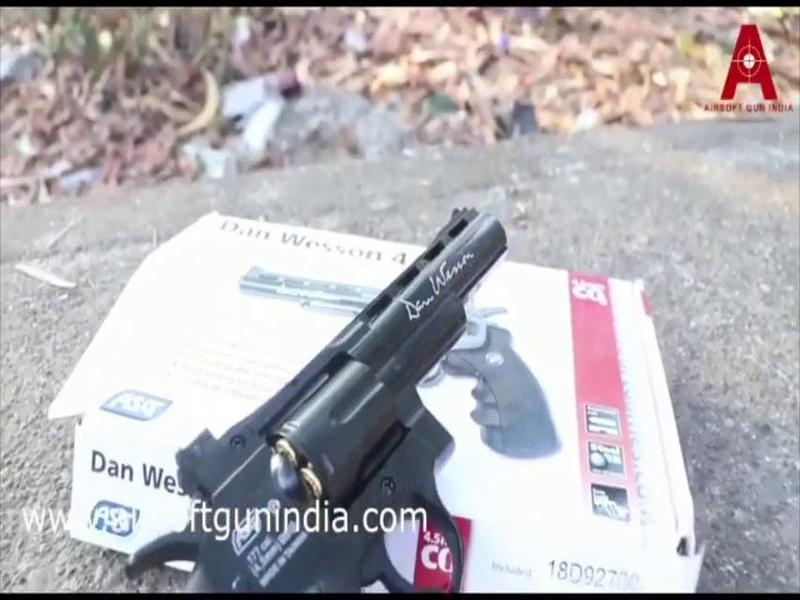Revolver: (74, 196, 583, 585)
